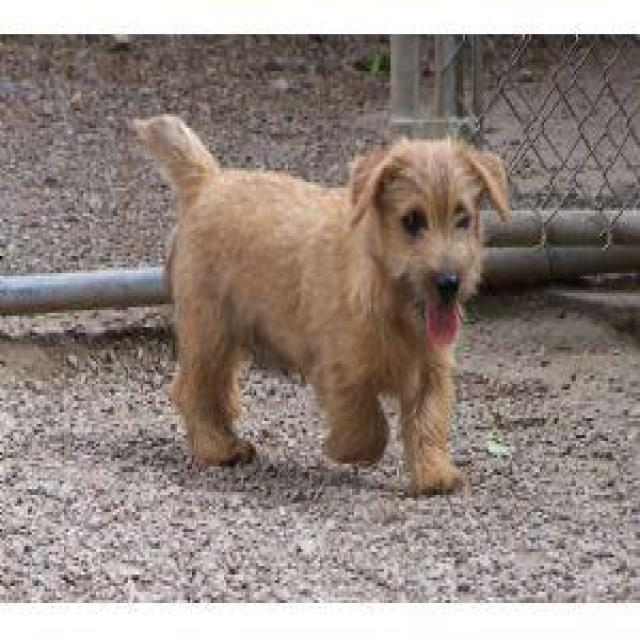puppy-dog: (121, 99, 516, 503)
